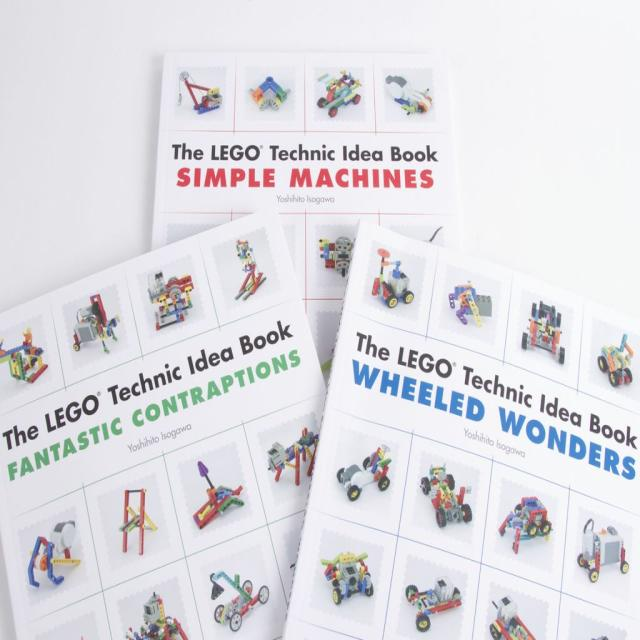Toy: (208, 567, 270, 633), (26, 518, 80, 589), (192, 459, 245, 530), (419, 460, 473, 527), (502, 493, 553, 562), (405, 572, 461, 632), (577, 518, 629, 582), (264, 426, 318, 485), (336, 442, 390, 501), (123, 590, 188, 639), (71, 291, 121, 353), (320, 550, 374, 606), (521, 299, 566, 364), (146, 268, 192, 331), (119, 487, 160, 555), (0, 326, 48, 384), (371, 248, 415, 309), (488, 594, 536, 640), (316, 69, 361, 116), (448, 279, 491, 328), (176, 70, 222, 115), (234, 238, 266, 302), (598, 330, 634, 386), (384, 75, 432, 116), (248, 74, 288, 110), (317, 236, 353, 276), (318, 346, 334, 374), (588, 632, 610, 639)
